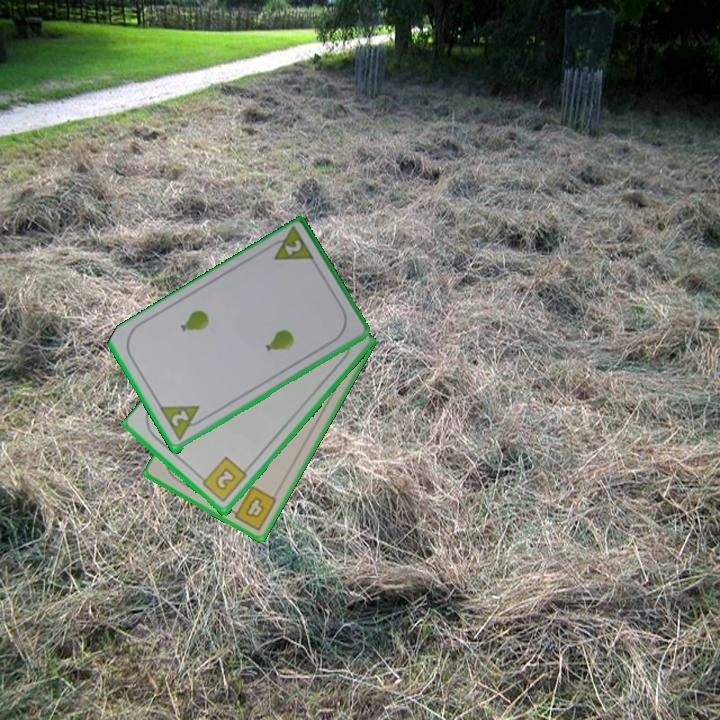2b: (195, 454, 250, 505)
2p: (167, 407, 192, 430), (280, 237, 305, 259)
4b: (225, 482, 280, 534)
